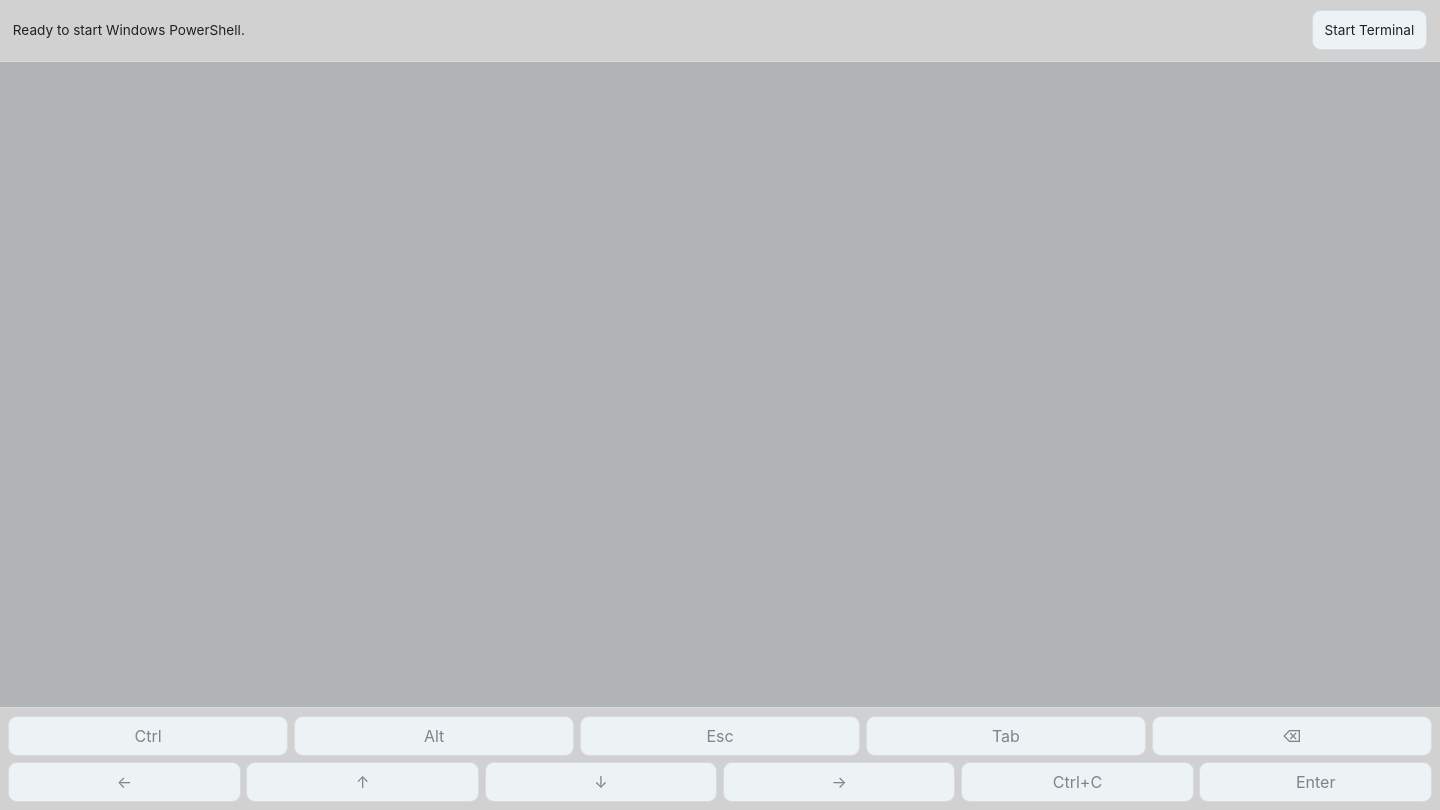
it: TerminalWorkspace › clears selected text and ignores a stale copy result when the terminal ends
The image size is (1440, 810).
Step 1. Click the button "Start Terminal" → (1369, 30), box x1=1312 y1=10 x2=1427 y2=50
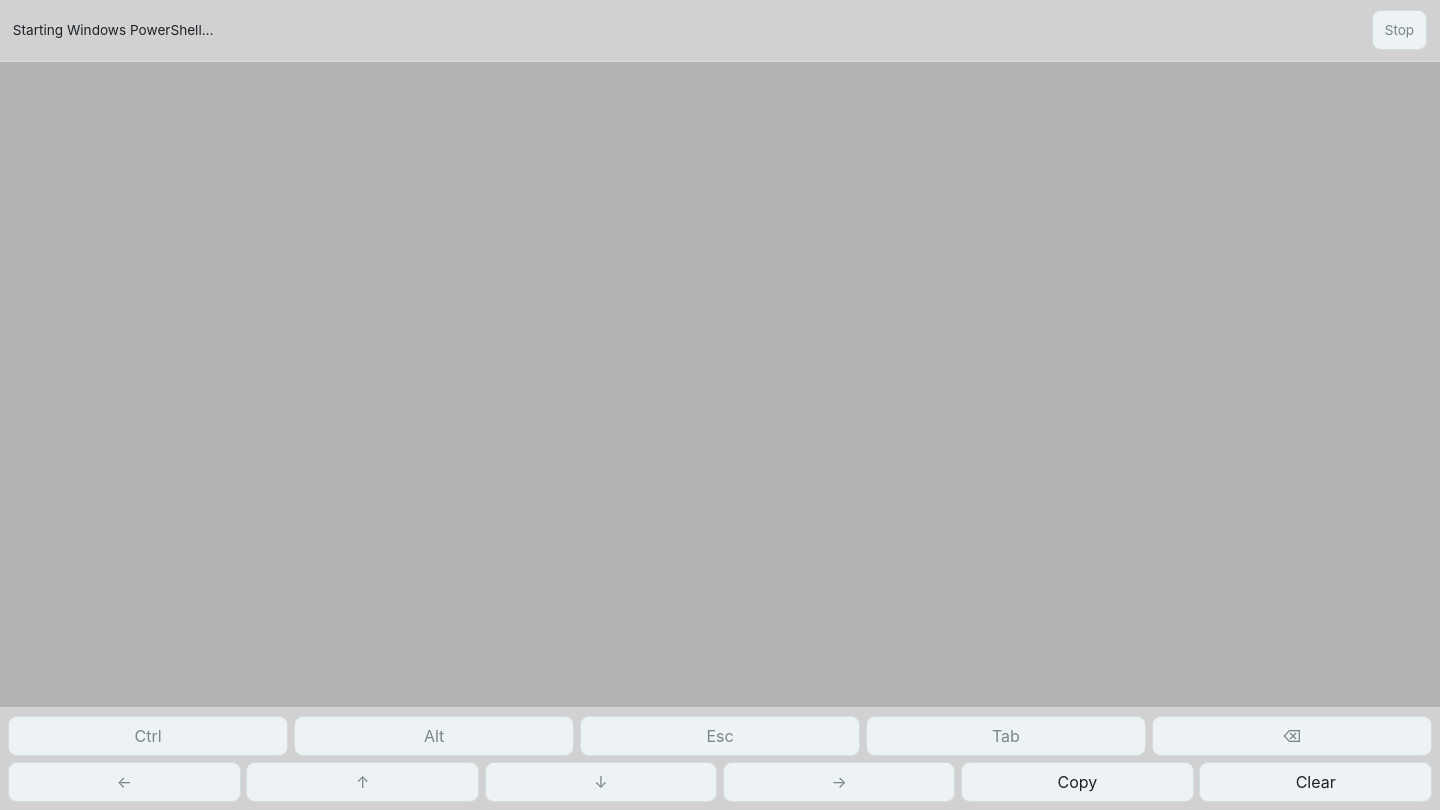
Expected: the button "Copy" is shown
Step 2. Click the button "Copy" → (1077, 782), box x1=961 y1=762 x2=1194 y2=802
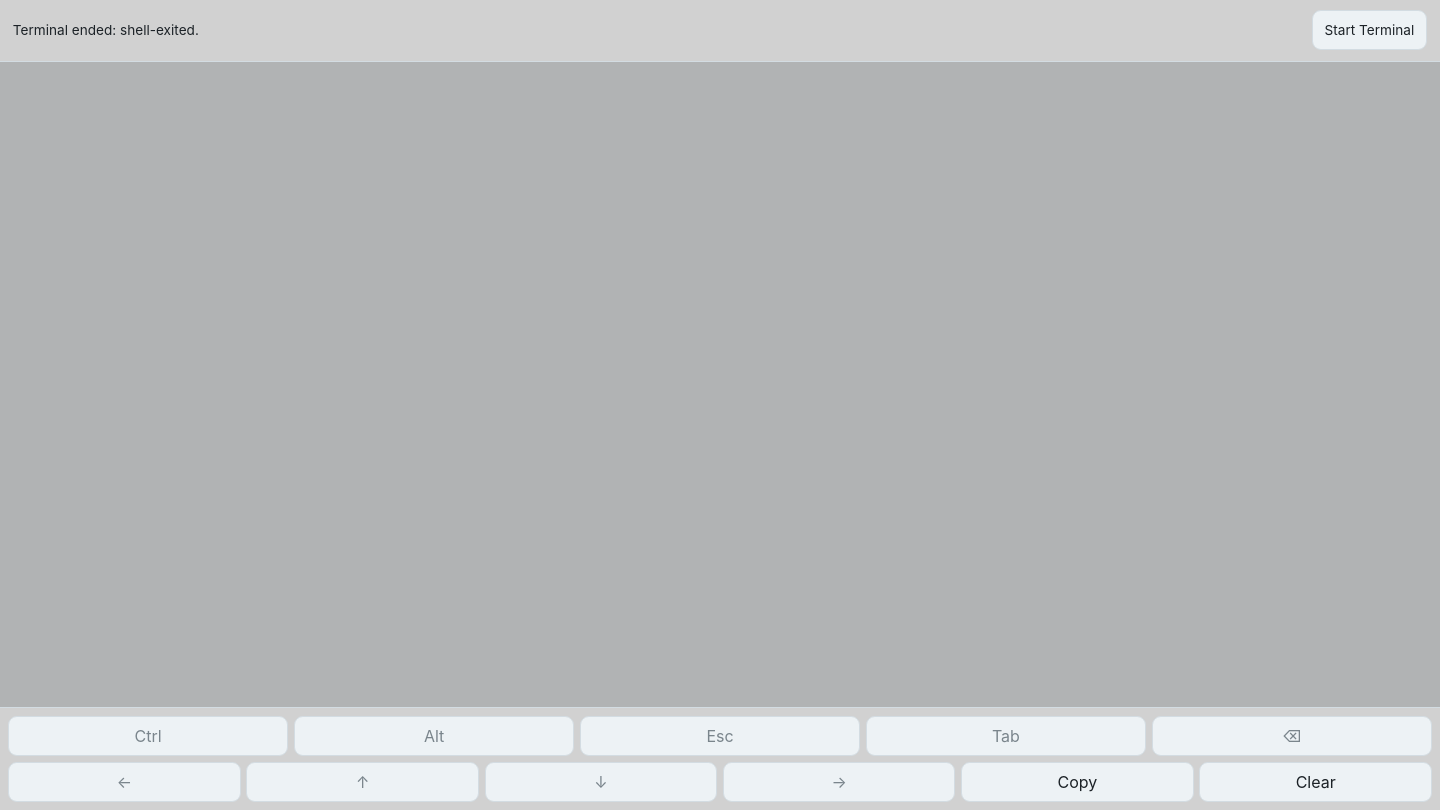
Expected: the button "Copy" is shown, x1=961 y1=762 x2=1194 y2=802
Expected: the text "Terminal ended: shell-exited." is shown, x1=13 y1=22 x2=199 y2=38
